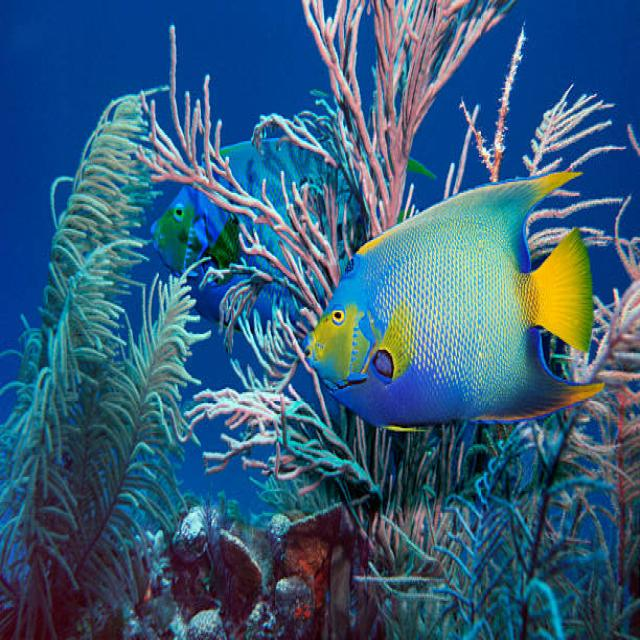AngelFish: (306, 173, 603, 415)
